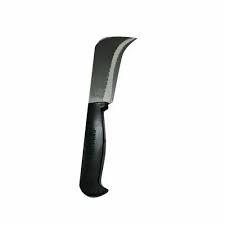Knife: (78, 35, 137, 197)
